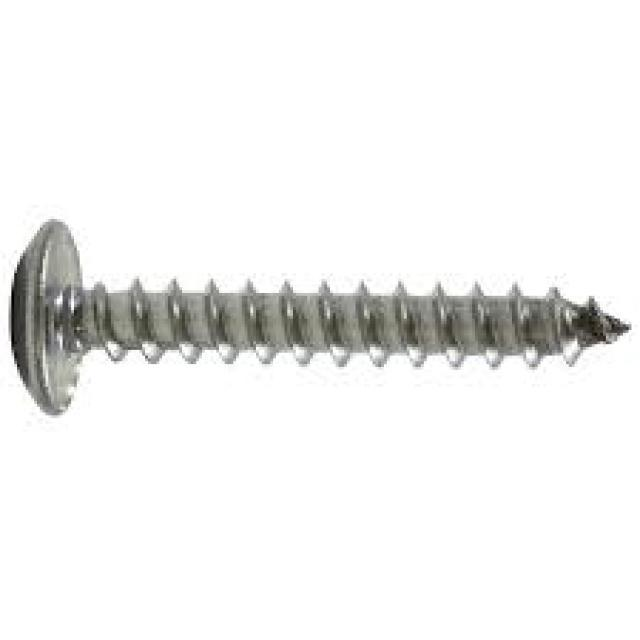Screw: (9, 219, 629, 418)
